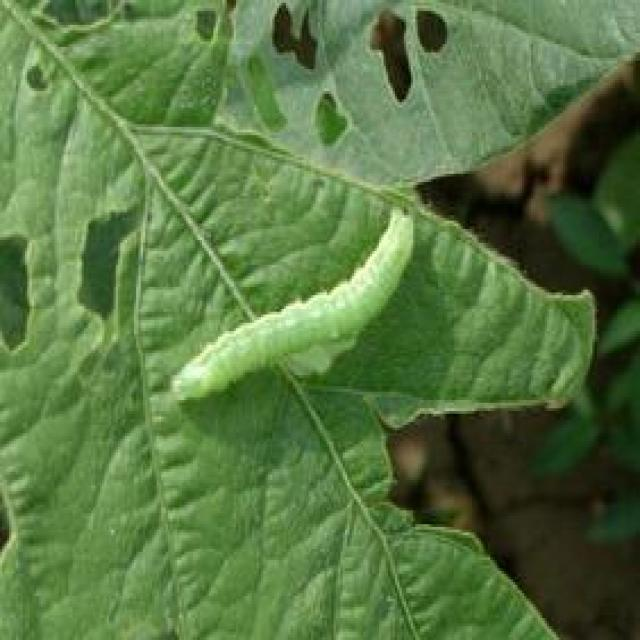BeetArmyWorm-Larva-: (167, 206, 424, 412)
